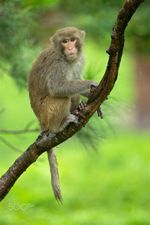monkey: (31, 15, 122, 181)
